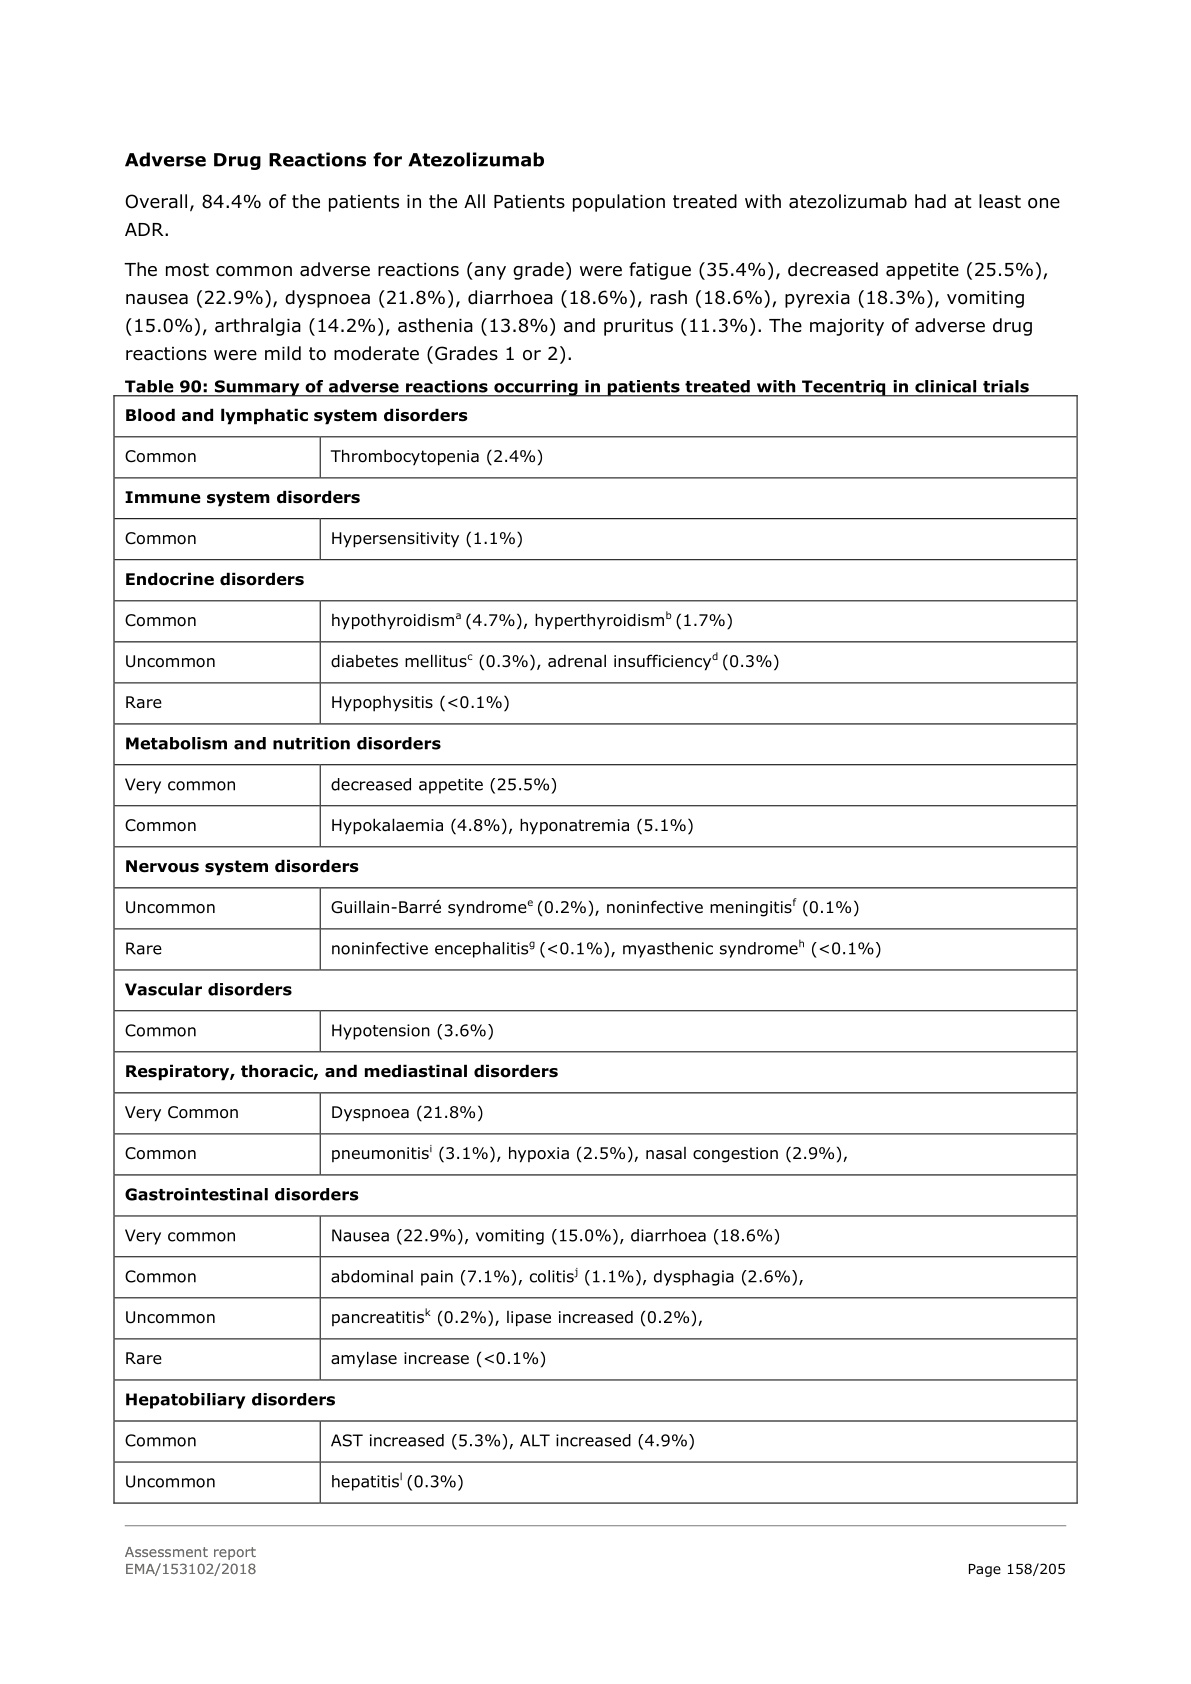merged_cells: (112, 396, 1079, 1504)
